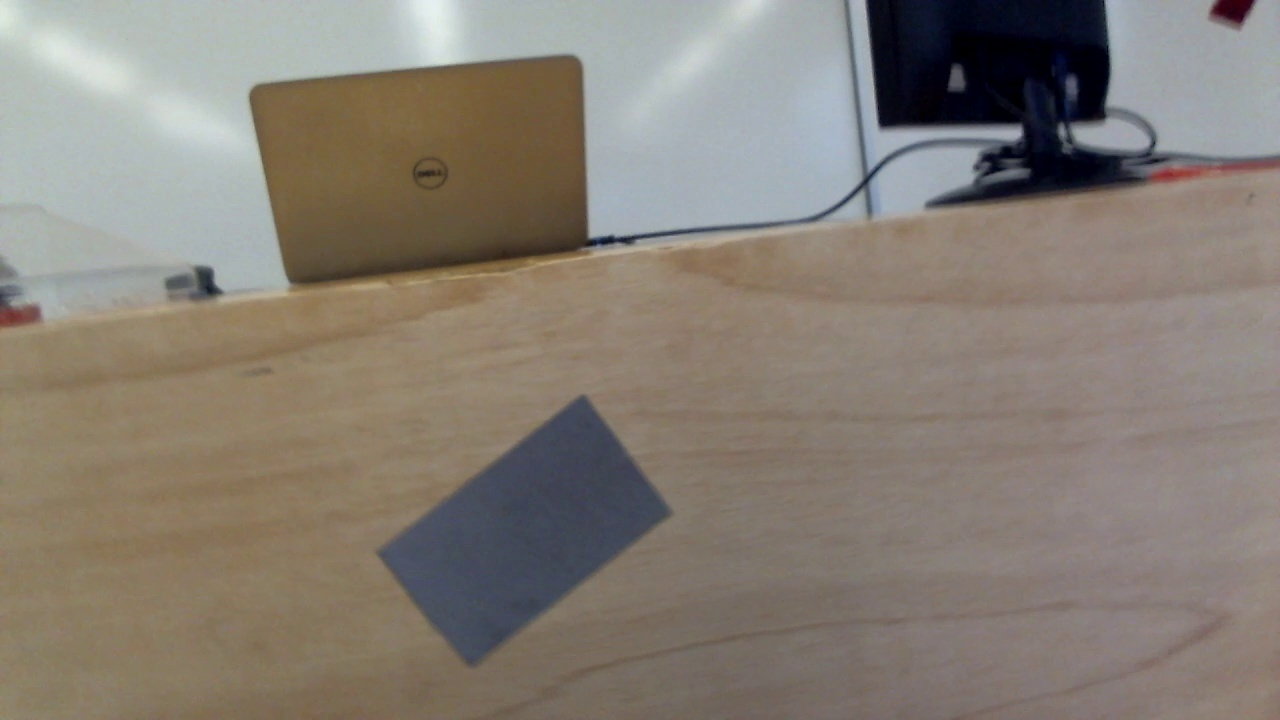Tape: (378, 397, 680, 668)
